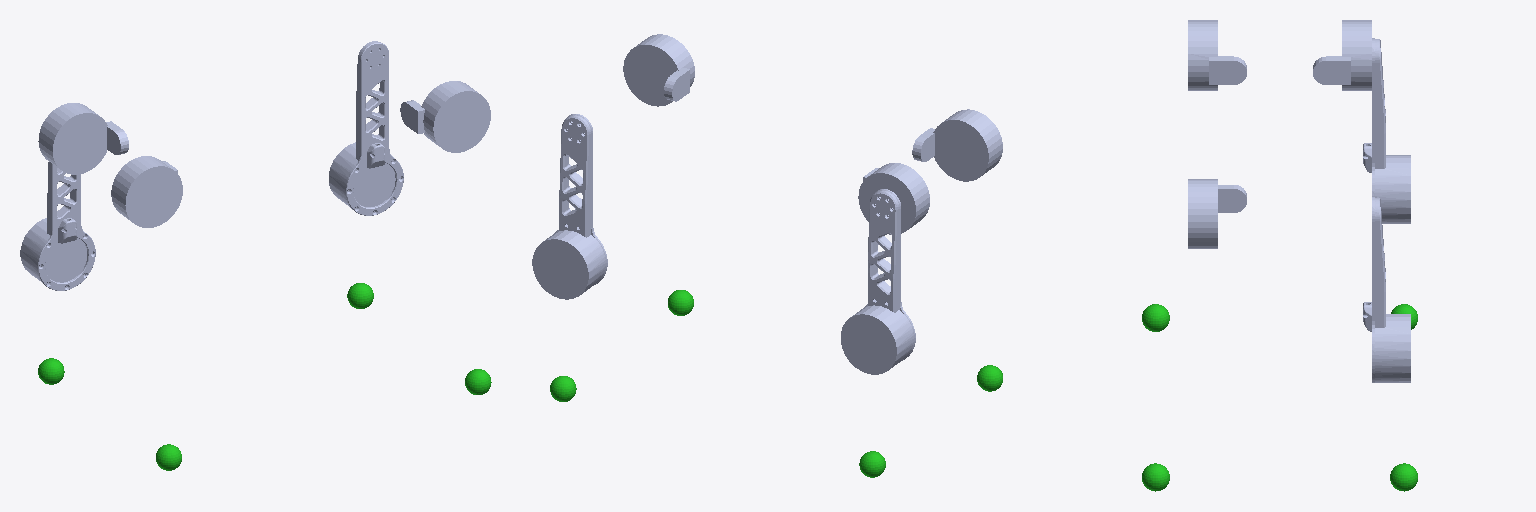
robot.urdf — bigreddog_uie:
<?xml version="1.0" encoding="utf-8"?>
<!-- This URDF was automatically created by SolidWorks to URDF Exporter! Originally created by Stephen Brawner (brawner@gmail.com) 
     Commit Version: 1.6.0-4-g7f85cfe  Build Version: 1.6.7995.38578
     For more information, please see http://wiki.ros.org/sw_urdf_exporter -->
<robot
  name="bigreddog_uie">
  <mujoco>
    <compiler
      meshdir="../meshes"
      balanceinertia="true"
      discardvisual="false" />
  </mujoco>
  <link
    name="base_link">
    <inertial>
      <origin
        xyz="-0.02594078 0.00017041 0.02153795"
        rpy="0 0 0" />
      <mass
        value="5.20000000" />
      <inertia
        ixx="0.03784813"
        ixy="-0.00015076"
        ixz="0.00839621"
        iyy="0.10658838"
        iyz="-0.00001894"
        izz="0.11380621" />
    </inertial>
    <visual>
      <origin
        xyz="0 0 0"
        rpy="0 0 0" />
      <geometry>
        <mesh
          filename="../meshes/base_link.STL" />
      </geometry>
      <material
        name="">
        <color
          rgba="0.792156862745098 0.819607843137255 0.933333333333333 1" />
      </material>
    </visual>
    <collision>
      <origin xyz="0 0 0" rpy="0 0 0"/>
      <geometry>
        <box size="0.416 0.242 0.127"/>
      </geometry>
    </collision>
  </link>
  <link
    name="FL_hip_link">
    <inertial>
      <origin
        xyz="0.05501785 0.04121564 0.00000000"
        rpy="0 0 0" />
      <mass
        value="0.69000000" />
      <inertia
        ixx="0.00056978"
        ixy="-0.00008367"
        ixz="-0.0000001"
        iyy="0.00093005"
        iyz="-0.0000001"
        izz="0.00068785" />
    </inertial>
    <visual>
      <origin
        xyz="0 0 0"
        rpy="0 0 0" />
      <geometry>
        <mesh
          filename="../meshes/FL_hip_link.STL" />
      </geometry>
      <material
        name="">
        <color
          rgba="0.792156862745098 0.819607843137255 0.933333333333333 1" />
      </material>
    </visual>
    <collision>
      <origin xyz="0.05892 0.04424 0" rpy="-1.5708 0 0"/>
      <geometry>
        <cylinder radius="0.05" length="0.0425"/>
      </geometry>
    </collision> 
  </link>
  <joint
    name="FL_hip_joint"
    type="revolute">
    <origin
      xyz="0.208 0.0654999999999999 0"
      rpy="0 0 0" />
    <parent
      link="base_link" />
    <child
      link="FL_hip_link" />
    <axis
      xyz="1 0 0" />
    <limit
      lower="-0.611"
      upper="0.436"
      effort="80.0"
      velocity="20." />
  </joint>
  <link
    name="FL_thigh_link">
    <inertial>
      <origin
        xyz="-0.00008980 0.02424443 -0.17950406"
        rpy="0 0 0" />
      <mass
        value="0.72500000" />
      <inertia
        ixx="0.00327676"
        ixy="-0.00000098"
        ixz="0.00000561"
        iyy="0.00345681"
        iyz="0.00036039"
        izz="0.00057396" />
    </inertial>
    <visual>
      <origin
        xyz="0 0 0"
        rpy="0 0 0" />
      <geometry>
        <mesh
          filename="../meshes/FL_thigh_link.STL" />
      </geometry>
      <material
        name="">
        <color
          rgba="0.792156862745098 0.819607843137255 0.933333333333333 1" />
      </material>
    </visual>
    <collision>
      <origin xyz="0 0.01 -0.088" rpy="0 0 0"/>
      <geometry>
        <box size="0.05 0.018 0.2"/>
      </geometry>
    </collision>
    <collision>
      <origin xyz="0 0.03 -0.21" rpy="-1.5708 0 0"/>
      <geometry>
        <cylinder radius="0.049" length="0.05"/>
      </geometry>
    </collision>  
  </link>
  <joint
    name="FL_thigh_joint"
    type="revolute">
    <origin
      xyz="0.0589169799508268 0.0648995048822371 0"
      rpy="0 0 0" />
    <parent
      link="FL_hip_link" />
    <child
      link="FL_thigh_link" />
    <axis
      xyz="0 1 0" />
    <limit
      lower="-2.583"
      upper="2.286"
      effort="80.0"
      velocity="20." />
  </joint>
  <limit
      lower="-2.583"
      upper="2.286"
      effort="80.0"
      velocity="20." />
  <link
    name="FL_calf_link">
    <inertial>
      <origin
        xyz="0.03312290 -0.00176321 -0.05516957"
        rpy="0 0 0" />
      <mass
        value="1.11000000" />
      <inertia
        ixx="0.00660777"
        ixy="0.00007751"
        ixz="-0.00116175"
        iyy="0.00759064"
        iyz="-0.00035061"
        izz="0.00126767" />
    </inertial>
    <visual>
      <origin
        xyz="0 0 0"
        rpy="0 0 0" />
      <geometry>
        <mesh
          filename="../meshes/FL_calf_link.STL" />
      </geometry>
      <material
        name="">
        <color
          rgba="0.792156862745098 0.819607843137255 0.933333333333333 1" />
      </material>
    </visual>
    <collision>
      <origin xyz="0.02625 0.0075 -0.00955" rpy="0 0.349 0"/>
      <geometry>
        <box size="0.115 0.015 0.06"/>
      </geometry>
    </collision>
    <collision>
      <origin xyz="0.02919 -0.006 -0.1197" rpy="0 0.349 0"/>
      <geometry>
        <cylinder radius="0.015" length="0.145"/>
      </geometry>
    </collision>
  </link>
  <joint
    name="FL_calf_joint"
    type="revolute">
    <origin
      xyz="0.00102606043587916 0.055999999999989 -0.2071809221398"
      rpy="0 0 0" />
    <parent
      link="FL_thigh_link" />
    <child
      link="FL_calf_link" />
    <axis
      xyz="0 1 0" />
    <limit
      lower="-2.792"
      upper="2.809"
      effort="80.0"
      velocity="20." />
  </joint>
  <link name="FL_foot">
    <inertial>
      <origin xyz="0 0 0" rpy="0 0 0" />
      <mass value="0.04" />
      <inertia ixx="0.0000096" ixy="0.0" ixz="0.0" iyy="0.0000096" iyz="0.0" izz="0.0000096" />
    </inertial>

    <collision>
      <origin xyz="0 0 0" rpy="0 0 0"/>
      <geometry>
        <sphere radius="0.02"/>
      </geometry>
    </collision>

    <visual>
      <origin xyz="0 0 0" rpy="0 0 0"/>
      <geometry>
        <sphere radius="0.02"/>
      </geometry>
      <material name="foot_color">
        <color rgba="0.2 0.8 0.2 1.0"/>
      </material>
    </visual>
  </link>
  <joint name="FL_foot_fix" type="fixed" dont_collapse="true">
    <origin xyz="0 -0.01 -0.205" rpy="0 0 0" />
    <parent link="FL_calf_link" />
    <child link="FL_foot" />
    <axis xyz="0 0 0" /> 
  </joint>
  <link
    name="FR_hip_link">
    <inertial>
      <origin
        xyz="0.05501785 -0.04121564 0.00000000"
        rpy="0 0 0" />
      <mass
        value="0.69000000" />
      <inertia
        ixx="0.00056978"
        ixy="0.00008367"
        ixz="-0.0000001"
        iyy="0.00093005"
        iyz="-0.0000001"
        izz="0.00068785" />
    </inertial>
    <visual>
      <origin
        xyz="0 0 0"
        rpy="0 0 0" />
      <geometry>
        <mesh
          filename="../meshes/FR_hip_link.STL" />
      </geometry>
      <material
        name="">
        <color
          rgba="0.792156862745098 0.819607843137255 0.933333333333333 1" />
      </material>
    </visual>
    <collision>
      <origin xyz="0.05892 -0.04424 0" rpy="-1.5708 0 0"/>
      <geometry>
        <cylinder radius="0.05" length="0.0425"/>
      </geometry>
    </collision> 
  </link>
  <joint
    name="FR_hip_joint"
    type="revolute">
    <origin
      xyz="0.208 -0.0654999999999999 0"
      rpy="0 0 0" />
    <parent
      link="base_link" />
    <child
      link="FR_hip_link" />
    <axis
      xyz="1 0 0" />
    <limit
      lower="-0.436"
      upper="0.611"
      effort="80.0"
      velocity="20." />
  </joint>
  <link
    name="FR_thigh_link">
    <inertial>
      <origin
        xyz="-0.00008980 -0.02424451 -0.17950476"
        rpy="0 0 0" />
      <mass
        value="0.72500000" />
      <inertia
        ixx="0.00327667"
        ixy="0.00000098"
        ixz="0.00000561"
        iyy="0.00345676"
        iyz="-0.00036038"
        izz="0.00057399" />
    </inertial>
    <visual>
      <origin
        xyz="0 0 0"
        rpy="0 0 0" />
      <geometry>
        <mesh
          filename="../meshes/FR_thigh_link.STL" />
      </geometry>
      <material
        name="">
        <color
          rgba="0.792156862745098 0.819607843137255 0.933333333333333 1" />
      </material>
    </visual>
    <collision>
      <origin xyz="0 -0.01 -0.088" rpy="0 0 0"/>
      <geometry>
        <box size="0.05 0.018 0.2"/>
      </geometry>
    </collision>
    <collision>
      <origin xyz="0 -0.03 -0.21" rpy="-1.5708 0 0"/>
      <geometry>
        <cylinder radius="0.049" length="0.05"/>
      </geometry>
    </collision> 
  </link>
  <joint
    name="FR_thigh_joint"
    type="revolute">
    <origin
      xyz="0.0589169799508265 -0.0648995048822371 0"
      rpy="0 0 0" />
    <parent
      link="FR_hip_link" />
    <child
      link="FR_thigh_link" />
    <axis
      xyz="0 1 0" />
    <limit
      lower="-2.583"
      upper="2.286"
      effort="80.0"
      velocity="20." />
  </joint>
  <link
    name="FR_calf_link">
    <inertial>
      <origin
        xyz="0.03312290 0.00176322 -0.05516958"
        rpy="0 0 0" />
      <mass
        value="1.11000000" />
      <inertia
        ixx="0.00660777"
        ixy="-0.00007751"
        ixz="-0.00116175"
        iyy="0.00759064"
        iyz="0.00035061"
        izz="0.00126767" />
    </inertial>
    <visual>
      <origin
        xyz="0 0 0"
        rpy="0 0 0" />
      <geometry>
        <mesh
          filename="../meshes/FR_calf_link.STL" />
      </geometry>
      <material
        name="">
        <color
          rgba="0.792156862745098 0.819607843137255 0.933333333333333 1" />
      </material>
    </visual>
    <collision>
      <origin xyz="0.02625 -0.0075 -0.00955" rpy="0 0.349 0"/>
      <geometry>
        <box size="0.115 0.015 0.06"/>
      </geometry>
    </collision>
    <collision>
      <origin xyz="0.02919 0.006 -0.1197" rpy="0 0.349 0"/>
      <geometry>
        <cylinder radius="0.015" length="0.145"/>
      </geometry>
    </collision>
  </link>
  <joint
    name="FR_calf_joint"
    type="revolute">
    <origin
      xyz="0.00102606043587949 -0.055999999999989 -0.2071809221398"
      rpy="0 0 0" />
    <parent
      link="FR_thigh_link" />
    <child
      link="FR_calf_link" />
    <axis
      xyz="0 1 0" />
    <limit
      lower="-2.792"
      upper="2.809"
      effort="80.0"
      velocity="20." />
  </joint>
  <link name="FR_foot">
    <inertial>
      <origin xyz="0 0 0" rpy="0 0 0" />
      <mass value="0.04" />
      <inertia ixx="0.0000096" ixy="0.0" ixz="0.0" iyy="0.0000096" iyz="0.0" izz="0.0000096" />
    </inertial>

    <collision>
      <origin xyz="0 0 0" rpy="0 0 0"/>
      <geometry>
        <sphere radius="0.02"/>
      </geometry>
    </collision>

    <visual>
      <origin xyz="0 0 0" rpy="0 0 0"/>
      <geometry>
        <sphere radius="0.02"/>
      </geometry>
      <material name="foot_color">
        <color rgba="0.2 0.8 0.2 1.0"/>
      </material>
    </visual>
  </link>
  <joint name="FR_foot_fix" type="fixed" dont_collapse="true">
    <origin xyz="0 0.01 -0.205" rpy="0 0 0" />
    <parent link="FR_calf_link" />
    <child link="FR_foot" />
    <axis xyz="0 0 0" /> 
  </joint>
  <link
    name="RL_hip_link">
    <inertial>
      <origin
        xyz="-0.05501785 0.04121564 0.00000000"
        rpy="0 0 0" />
      <mass
        value="0.69000000" />
      <inertia
        ixx="0.00056978"
        ixy="0.00008367"
        ixz="-0.0000001"
        iyy="0.00093005"
        iyz="-0.0000001"
        izz="0.00068785" />
    </inertial>
    <visual>
      <origin
        xyz="0 0 0"
        rpy="0 0 0" />
      <geometry>
        <mesh
          filename="../meshes/RL_hip_link.STL" />
      </geometry>
      <material
        name="">
        <color
          rgba="0.792156862745098 0.819607843137255 0.933333333333333 1" />
      </material>
    </visual>
    <collision>
      <origin xyz="-0.05892 0.04424 0" rpy="-1.5708 0 0"/>
      <geometry>
        <cylinder radius="0.05" length="0.0425"/>
      </geometry>
    </collision> 
  </link>
  <joint
    name="RL_hip_joint"
    type="revolute">
    <origin
      xyz="-0.208 0.0654999999999999 0"
      rpy="0 0 0" />
    <parent
      link="base_link" />
    <child
      link="RL_hip_link" />
    <axis
      xyz="1 0 0" />
    <limit
      lower="-0.611"
      upper="0.436"
      effort="80.0"
      velocity="20." />
  </joint>
  <link
    name="RL_thigh_link">
    <inertial>
      <origin
        xyz="0.00008981 0.02424444 -0.17950414"
        rpy="0 0 0" />
      <mass
        value="0.72500000" />
      <inertia
        ixx="0.00327674"
        ixy="0.00000098"
        ixz="-0.00000561"
        iyy="0.00345680"
        iyz="0.00036039"
        izz="0.00057396" />
    </inertial>
    <visual>
      <origin
        xyz="0 0 0"
        rpy="0 0 0" />
      <geometry>
        <mesh
          filename="../meshes/RL_thigh_link.STL" />
      </geometry>
      <material
        name="">
        <color
          rgba="0.792156862745098 0.819607843137255 0.933333333333333 1" />
      </material>
    </visual>
    <collision>
      <origin xyz="0 0.01 -0.088" rpy="0 0 0"/>
      <geometry>
        <box size="0.05 0.018 0.2"/>
      </geometry>
    </collision>
    <collision>
      <origin xyz="0 0.03 -0.21" rpy="-1.5708 0 0"/>
      <geometry>
        <cylinder radius="0.049" length="0.05"/>
      </geometry>
    </collision> 
  </link>
  <joint
    name="RL_thigh_joint"
    type="revolute">
    <origin
      xyz="-0.0589169799508282 0.0648995048822371 0"
      rpy="0 0 0" />
    <parent
      link="RL_hip_link" />
    <child
      link="RL_thigh_link" />
    <axis
      xyz="0 1 0" />
    <limit
      lower="-2.286"
      upper="2.583"
      effort="80.0"
      velocity="20." />
  </joint>
  <link
    name="RL_calf_link">
    <inertial>
      <origin
        xyz="-0.03312290 -0.00176322 -0.05516958"
        rpy="0 0 0" />
      <mass
        value="1.11000000" />
      <inertia
        ixx="0.00660777"
        ixy="-0.00007751"
        ixz="0.00116175"
        iyy="0.00759064"
        iyz="-0.00035061"
        izz="0.00126767" />
    </inertial>
    <visual>
      <origin
        xyz="0 0 0"
        rpy="0 0 0" />
      <geometry>
        <mesh
          filename="../meshes/RL_calf_link.STL" />
      </geometry>
      <material
        name="">
        <color
          rgba="0.792156862745098 0.819607843137255 0.933333333333333 1" />
      </material>
    </visual>
    <collision>
      <origin xyz="-0.02625 0.0075 -0.00955" rpy="0 -0.349 0"/>
      <geometry>
        <box size="0.115 0.015 0.06"/>
      </geometry>
    </collision>
    <collision>
      <origin xyz="-0.02919 -0.006 -0.1197" rpy="0 -0.349 0"/>
      <geometry>
        <cylinder radius="0.015" length="0.145"/>
      </geometry>
    </collision>
  </link>
  <joint
    name="RL_calf_joint"
    type="revolute">
    <origin
      xyz="-0.00102606043587783 0.055999999999989 -0.207180922139797"
      rpy="0 0 0" />
    <parent
      link="RL_thigh_link" />
    <child
      link="RL_calf_link" />
    <axis
      xyz="0 1 0" />
    <limit
      lower="-2.809"
      upper="2.792"
      effort="80.0"
      velocity="20." />
  </joint>
  <link name="RL_foot">
    <inertial>
      <origin xyz="0 0 0" rpy="0 0 0" />
      <mass value="0.04" />
      <inertia ixx="0.0000096" ixy="0.0" ixz="0.0" iyy="0.0000096" iyz="0.0" izz="0.0000096" />
    </inertial>

    <collision>
      <origin xyz="0 0 0" rpy="0 0 0"/>
      <geometry>
        <sphere radius="0.02"/>
      </geometry>
    </collision>

    <visual>
      <origin xyz="0 0 0" rpy="0 0 0"/>
      <geometry>
        <sphere radius="0.02"/>
      </geometry>
      <material name="foot_color">
        <color rgba="0.2 0.8 0.2 1.0"/>
      </material>
    </visual>
  </link>
  <joint name="RL_foot_fix" type="fixed" dont_collapse="true">
    <origin xyz="0 -0.01 -0.205" rpy="0 0 0" />
    <parent link="RL_calf_link" />
    <child link="RL_foot" />
    <axis xyz="0 0 0" /> 
  </joint>
  <link
    name="RR_hip_link">
    <inertial>
      <origin
        xyz="-0.05501785 -0.04121564 0.00000000"
        rpy="0 0 0" />
      <mass
        value="0.69000000" />
      <inertia
        ixx="0.00056978"
        ixy="-0.00008367"
        ixz="-0.0000001"
        iyy="0.00093005"
        iyz="-0.0000001"
        izz="0.00068785" />
    </inertial>
    <visual>
      <origin
        xyz="0 0 0"
        rpy="0 0 0" />
      <geometry>
        <mesh
          filename="../meshes/RR_hip_link.STL" />
      </geometry>
      <material
        name="">
        <color
          rgba="0.792156862745098 0.819607843137255 0.933333333333333 1" />
      </material>
    </visual>
    <collision>
      <origin xyz="-0.05892 -0.04424 0" rpy="-1.5708 0 0"/>
      <geometry>
        <cylinder radius="0.05" length="0.0425"/>
      </geometry>
    </collision> 
  </link>
  <joint
    name="RR_hip_joint"
    type="revolute">
    <origin
      xyz="-0.208 -0.0654999999999999 0"
      rpy="0 0 0" />
    <parent
      link="base_link" />
    <child
      link="RR_hip_link" />
    <axis
      xyz="1 0 0" />
    <limit
      lower="-0.436"
      upper="0.611"
      effort="80.0"
      velocity="20." />
  </joint>
  <link
    name="RR_thigh_link">
    <inertial>
      <origin
        xyz="0.00008981 -0.02424450 -0.17950468"
        rpy="0 0 0" />
      <mass
        value="0.72500000" />
      <inertia
        ixx="0.00327669"
        ixy="-0.00000098"
        ixz="-0.00000561"
        iyy="0.00345678"
        iyz="-0.00036039"
        izz="0.00057399" />
    </inertial>
    <visual>
      <origin
        xyz="0 0 0"
        rpy="0 0 0" />
      <geometry>
        <mesh
          filename="../meshes/RR_thigh_link.STL" />
      </geometry>
      <material
        name="">
        <color
          rgba="0.792156862745098 0.819607843137255 0.933333333333333 1" />
      </material>
    </visual>
    <collision>
      <origin xyz="0 -0.01 -0.088" rpy="0 0 0"/>
      <geometry>
        <box size="0.05 0.018 0.2"/>
      </geometry>
    </collision>
    <collision>
      <origin xyz="0 -0.03 -0.21" rpy="-1.5708 0 0"/>
      <geometry>
        <cylinder radius="0.049" length="0.05"/>
      </geometry>
    </collision> 
  </link>
  <joint
    name="RR_thigh_joint"
    type="revolute">
    <origin
      xyz="-0.0589169799508276 -0.0648995048822371 0"
      rpy="0 0 0" />
    <parent
      link="RR_hip_link" />
    <child
      link="RR_thigh_link" />
    <axis
      xyz="0 1 0" />
    <limit
      lower="-2.286"
      upper="2.583"
      effort="80.0"
      velocity="20." />
  </joint>
  <link
    name="RR_calf_link">
    <inertial>
      <origin
        xyz="-0.03312290 0.00176322 -0.05516957"
        rpy="0 0 0" />
      <mass
        value="1.11000000" />
      <inertia
        ixx="0.00660777"
        ixy="0.00007751"
        ixz="0.00116175"
        iyy="0.00759064"
        iyz="0.00035061"
        izz="0.00126767" />
    </inertial>
    <visual>
      <origin
        xyz="0 0 0"
        rpy="0 0 0" />
      <geometry>
        <mesh
          filename="../meshes/RR_calf_link.STL" />
      </geometry>
      <material
        name="">
        <color
          rgba="0.792156862745098 0.819607843137255 0.933333333333333 1" />
      </material>
    </visual>
    <collision>
      <origin xyz="-0.02625 -0.0075 -0.00955" rpy="0 -0.349 0"/>
      <geometry>
        <box size="0.115 0.015 0.06"/>
      </geometry>
    </collision>
    <collision>
      <origin xyz="-0.02919 0.006 -0.1197" rpy="0 -0.349 0"/>
      <geometry>
        <cylinder radius="0.015" length="0.145"/>
      </geometry>
    </collision>
  </link>
  <joint
    name="RR_calf_joint"
    type="revolute">
    <origin
      xyz="-0.00102606043587838 -0.055999999999989 -0.207180922139797"
      rpy="0 0 0" />
    <parent
      link="RR_thigh_link" />
    <child
      link="RR_calf_link" />
    <axis
      xyz="0 1 0" />
    <limit
      lower="-2.809"
      upper="2.792"
      effort="80.0"
      velocity="20." />
  </joint>
  <link name="RR_foot">
    <inertial>
      <origin xyz="0 0 0" rpy="0 0 0" />
      <mass value="0.04" />
      <inertia ixx="0.0000096" ixy="0.0" ixz="0.0" iyy="0.0000096" iyz="0.0" izz="0.0000096" />
    </inertial>

    <collision>
      <origin xyz="0 0 0" rpy="0 0 0"/>
      <geometry>
        <sphere radius="0.02"/>
      </geometry>
    </collision>

    <visual>
      <origin xyz="0 0 0" rpy="0 0 0"/>
      <geometry>
        <sphere radius="0.02"/>
      </geometry>
      <material name="foot_color">
        <color rgba="0.2 0.8 0.2 1.0"/>
      </material>
    </visual>
  </link>
  <joint name="RR_foot_fix" type="fixed" dont_collapse="true">
    <origin xyz="0 0.01 -0.205" rpy="0 0 0" />
    <parent link="RR_calf_link" />
    <child link="RR_foot" />
    <axis xyz="0 0 0" /> 
  </joint>
</robot>

--- Facts derived from the render (not from the file) ---
The picture shows the robot from 3 angles, left to right: view 1: azimuth 30°, elevation 25°; view 2: azimuth 150°, elevation 25°; view 3: azimuth 270°, elevation 25°; orthographic projection.
Model bigreddog_uie with 17 links and 16 joints (12 revolute, 4 fixed), rooted at base_link, posed all joints at 0.
Links seen in each view (by area): view 1: FL_thigh_link, RL_thigh_link, FR_hip_link, RL_hip_link, RR_hip_link, FL_foot, RL_foot, RR_foot, FR_foot; view 2: FL_thigh_link, RL_thigh_link, RR_hip_link, FR_hip_link, RL_hip_link, RL_foot, FL_foot, RR_foot, FR_foot; view 3: FL_thigh_link, RL_thigh_link, RL_hip_link, RR_hip_link, FR_hip_link, FL_foot, FR_foot, RR_foot.
Boxes of the visible links, x1,y1,x2,y2 form: FL_thigh_link: [329, 41, 403, 215]; RL_thigh_link: [20, 162, 95, 290]; FR_hip_link: [400, 81, 490, 152]; RL_hip_link: [38, 103, 128, 174]; RR_hip_link: [111, 156, 182, 227]; FL_foot: [347, 283, 373, 308]; RL_foot: [38, 358, 64, 384]; RR_foot: [156, 444, 181, 470]; FR_foot: [465, 369, 491, 394]; FL_thigh_link: [532, 114, 607, 299]; RL_thigh_link: [841, 189, 915, 374]; RR_hip_link: [912, 109, 1002, 181]; FR_hip_link: [623, 34, 694, 106]; RL_hip_link: [858, 163, 929, 234]; RL_foot: [859, 451, 885, 477]; FL_foot: [550, 376, 576, 401]; RR_foot: [977, 365, 1002, 391]; FR_foot: [668, 290, 693, 315]; FL_thigh_link: [1363, 197, 1410, 382]; RL_thigh_link: [1363, 38, 1410, 223]; RL_hip_link: [1313, 20, 1371, 90]; RR_hip_link: [1188, 20, 1246, 90]; FR_hip_link: [1188, 179, 1246, 248]; FL_foot: [1390, 463, 1417, 491]; FR_foot: [1142, 463, 1169, 491]; RR_foot: [1142, 304, 1169, 331].
Size in the robot's own frame: 0.6338 by 0.3928 by 0.4822 metres.
Meshes: 13 distinct files referenced, 5 mesh visuals loaded (5 binary STL); not drawn: 8 (reference not matched to a file when rendering).
